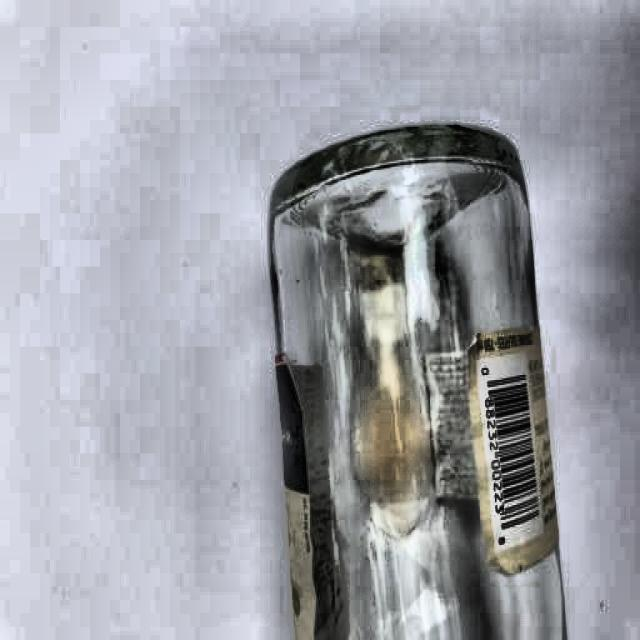glass: (261, 115, 569, 640)
